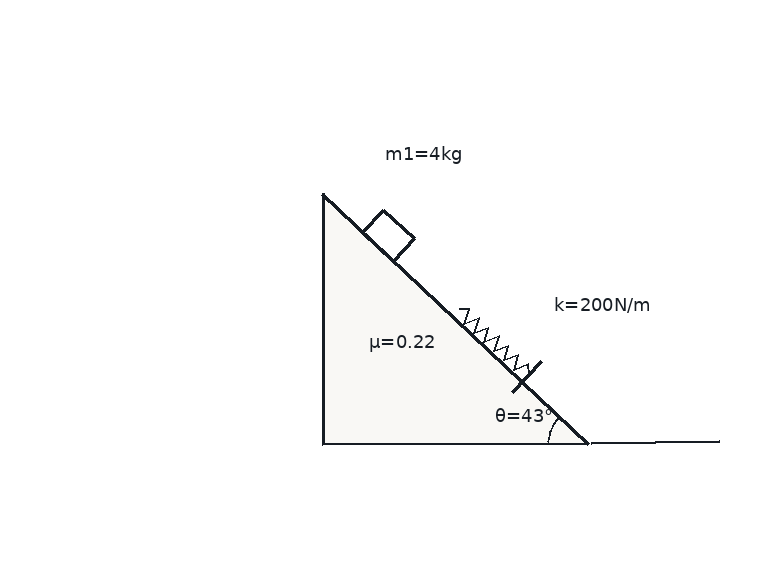block: (361, 208, 416, 262)
ramp: (320, 192, 591, 445)
spring: (457, 307, 530, 376)
